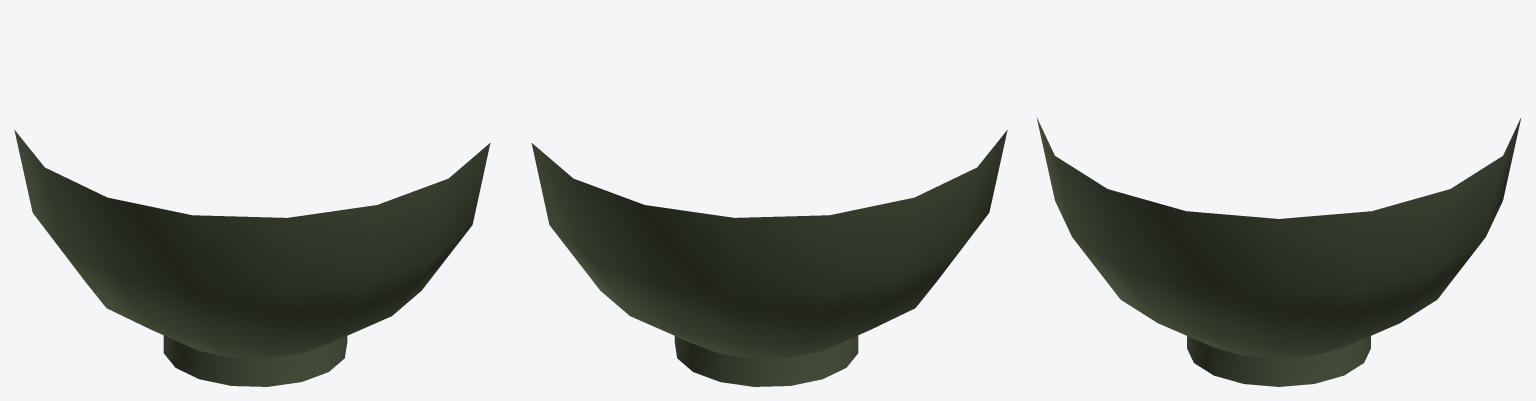
File: ensaladera.glb
3 renders of one model, left to right at view 1: azimuth 30°, elevation 25°; view 2: azimuth 150°, elevation 25°; view 3: azimuth 270°, elevation 25°, orthographic.
Visible parts, largest first — view 1: Cápsula, Cilindro; view 2: Cápsula, Cilindro; view 3: Cápsula, Cilindro.
Boxes of the visible parts, x1,y1,x2,y2 form: Cápsula: (14,130,490,358); Cilindro: (163,335,347,386); Cápsula: (531,130,1007,358); Cilindro: (674,335,858,386); Cápsula: (1036,117,1521,358); Cilindro: (1187,336,1370,386).
Bounding box in the file's own units: 1 × 0.5267 × 1.
